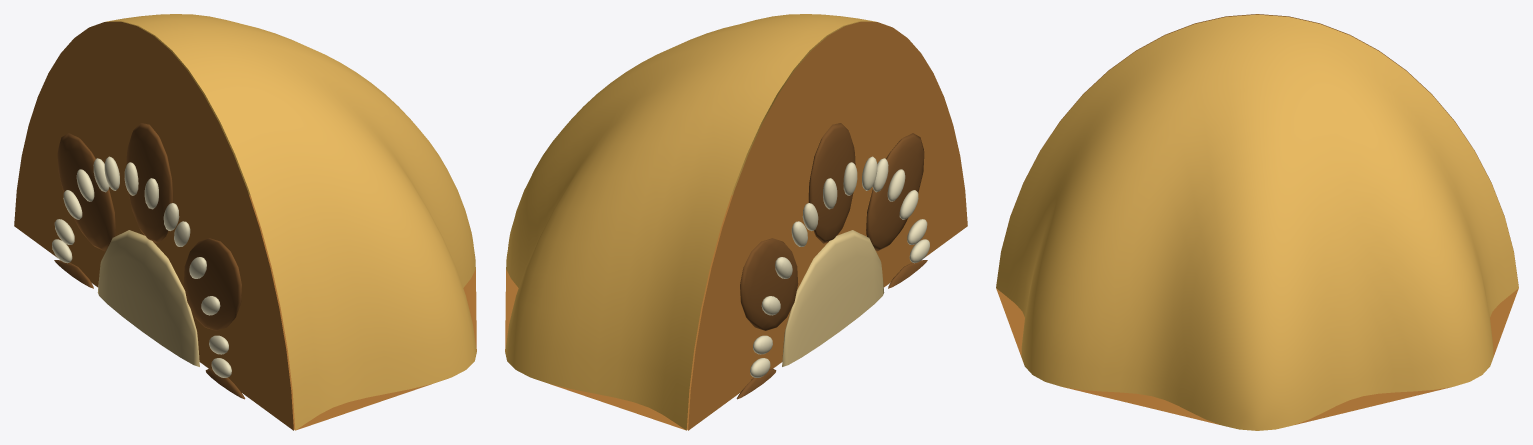
Rendered from event_golden_wedge.glb.
3 renders of one model, left to right at view 1: azimuth 30°, elevation 25°; view 2: azimuth 150°, elevation 25°; view 3: azimuth 270°, elevation 25°, orthographic. The views are drawn at different scales.
Parts seen in each view (by area): view 1: Prepared right half, Cut flesh, Pale central core, Seed chamber.001, Seed chamber, Seed chamber.006; view 2: Prepared right half, Cut flesh, Pale central core, Seed chamber.006, Seed chamber, Seed chamber.001; view 3: Prepared right half, Cut flesh.
Part boxes in pixels (x1,y1,x2,y2): Prepared right half: (105, 14, 476, 430); Cut flesh: (14, 21, 293, 430); Pale central core: (97, 230, 199, 366); Seed chamber.001: (183, 238, 241, 330); Seed chamber: (126, 123, 173, 243); Seed chamber.006: (57, 133, 115, 251); Prepared right half: (505, 14, 876, 430); Cut flesh: (688, 21, 967, 430); Pale central core: (782, 230, 884, 366); Seed chamber.006: (740, 238, 798, 330); Seed chamber: (808, 123, 855, 243); Seed chamber.001: (866, 133, 924, 251); Prepared right half: (996, 14, 1518, 430); Cut flesh: (996, 14, 1518, 284).
Bounding box in the file's own units: 0.7137 × 0.6 × 1.04.
